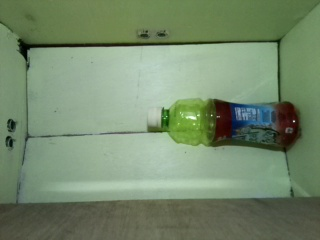bottle: (147, 96, 303, 152)
